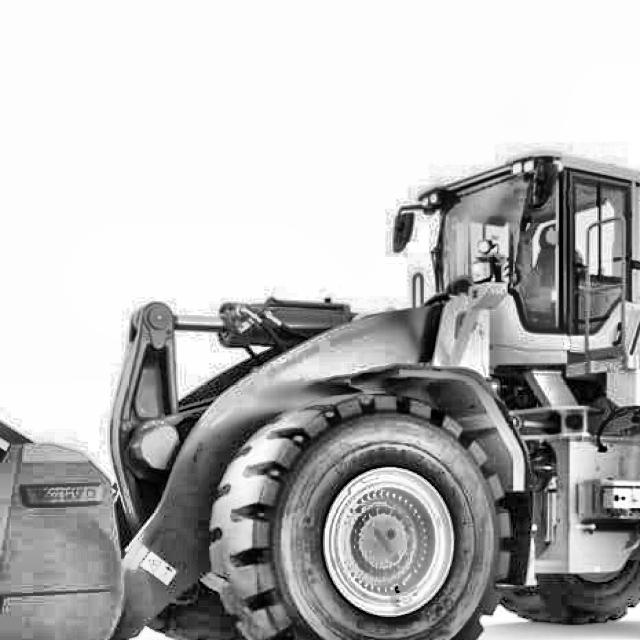buldozerpayloadergrader: (0, 137, 640, 640)
